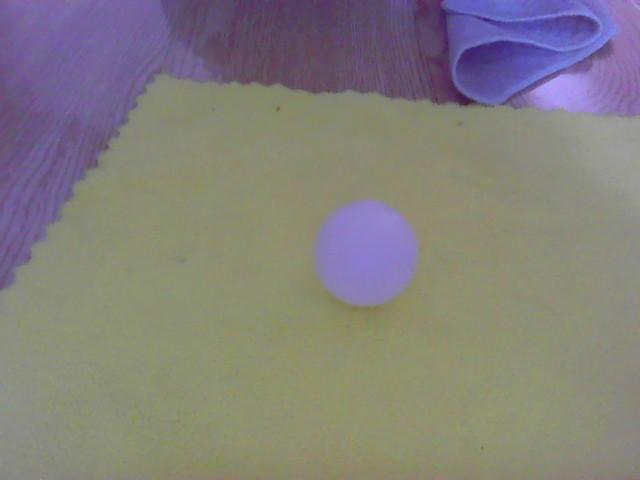ball: (315, 202, 419, 307)
